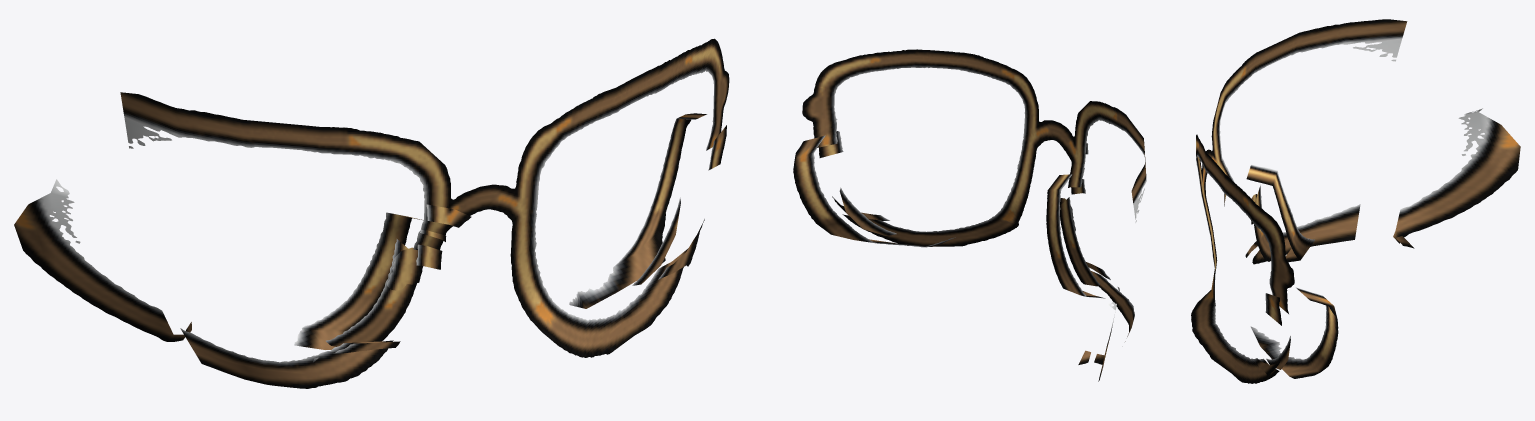
Rendered from 11_020_Mask_Glasses.glb.
3 renders of one model, left to right at view 1: azimuth 30°, elevation 25°; view 2: azimuth 150°, elevation 25°; view 3: azimuth 270°, elevation 25°, orthographic. The views are drawn at different scales.
Visible parts, largest first — view 1: 11_020_Mask_Glasses; view 2: 11_020_Mask_Glasses; view 3: 11_020_Mask_Glasses.
Boxes of the visible parts, box(x1,y1,x2,y2) form: 11_020_Mask_Glasses: box(14, 38, 729, 388); 11_020_Mask_Glasses: box(793, 49, 1146, 381); 11_020_Mask_Glasses: box(1191, 19, 1520, 383).
Bounding box in the file's own units: 0.2985 × 0.1657 × 0.1907.
1 material, 1 textured.
